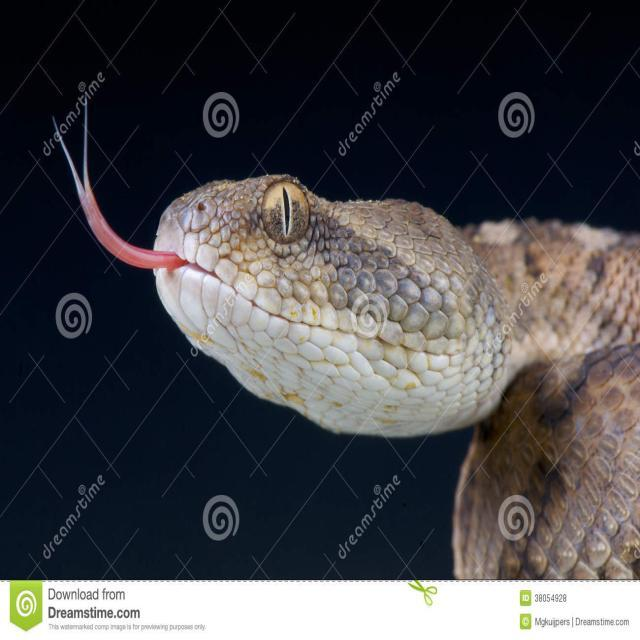Snake: (51, 94, 640, 579)
